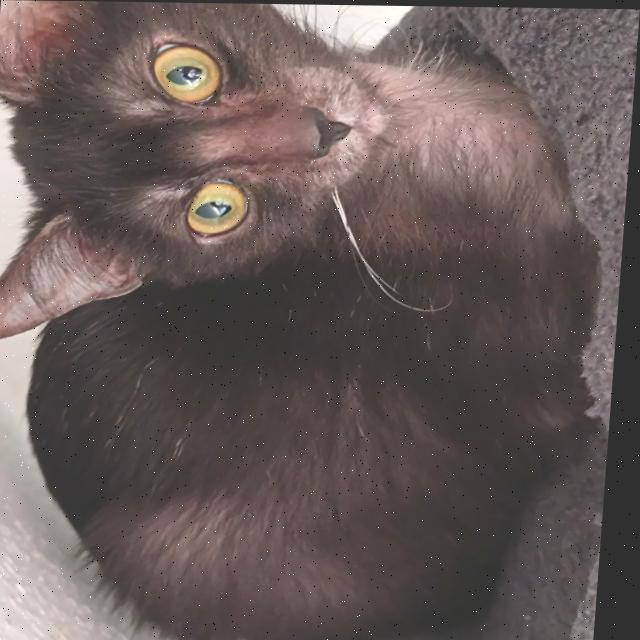Lykoi: (0, 0, 626, 640)
